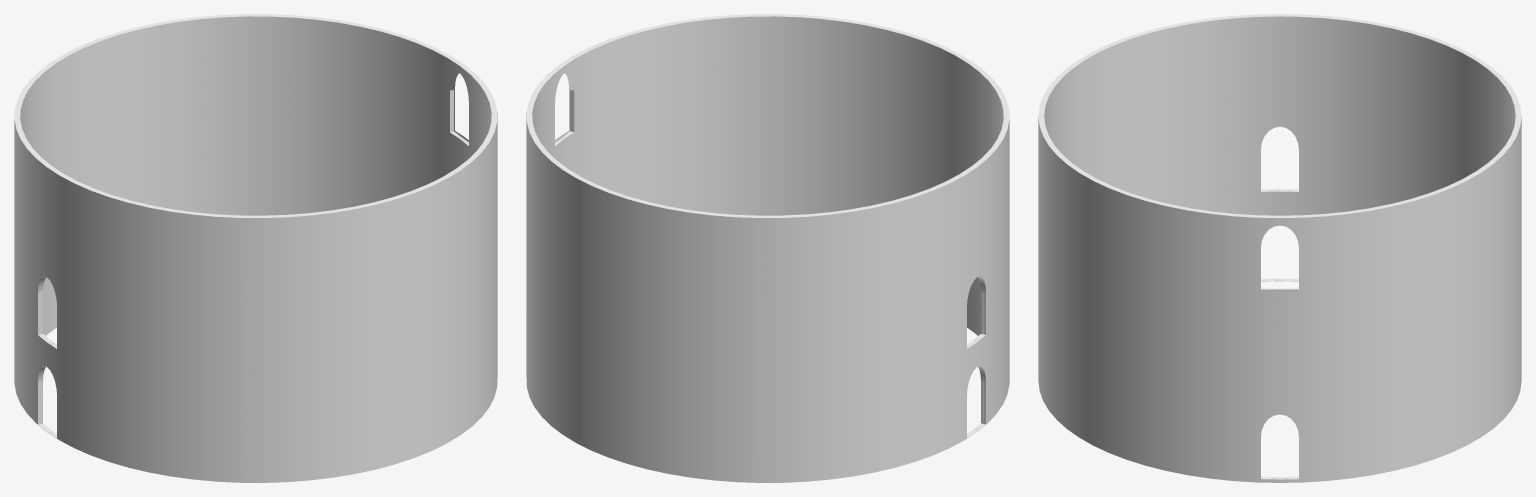
File: wall.fbx
3 views of the same model, side by side, from view 1: azimuth 30°, elevation 25°; view 2: azimuth 150°, elevation 25°; view 3: azimuth 270°, elevation 25° (orthographic).
Parts seen in each view (by area): view 1: polySurface18; view 2: polySurface18; view 3: polySurface18.
Part boxes in pixels (box(x1,y1,x2,y2)): polySurface18: box(14, 14, 497, 482); polySurface18: box(526, 14, 1009, 482); polySurface18: box(1038, 14, 1521, 482).
Size of the model in its own units: 50.6 by 30.6 by 50.6.
Materials: 1 (1 with a texture image).
